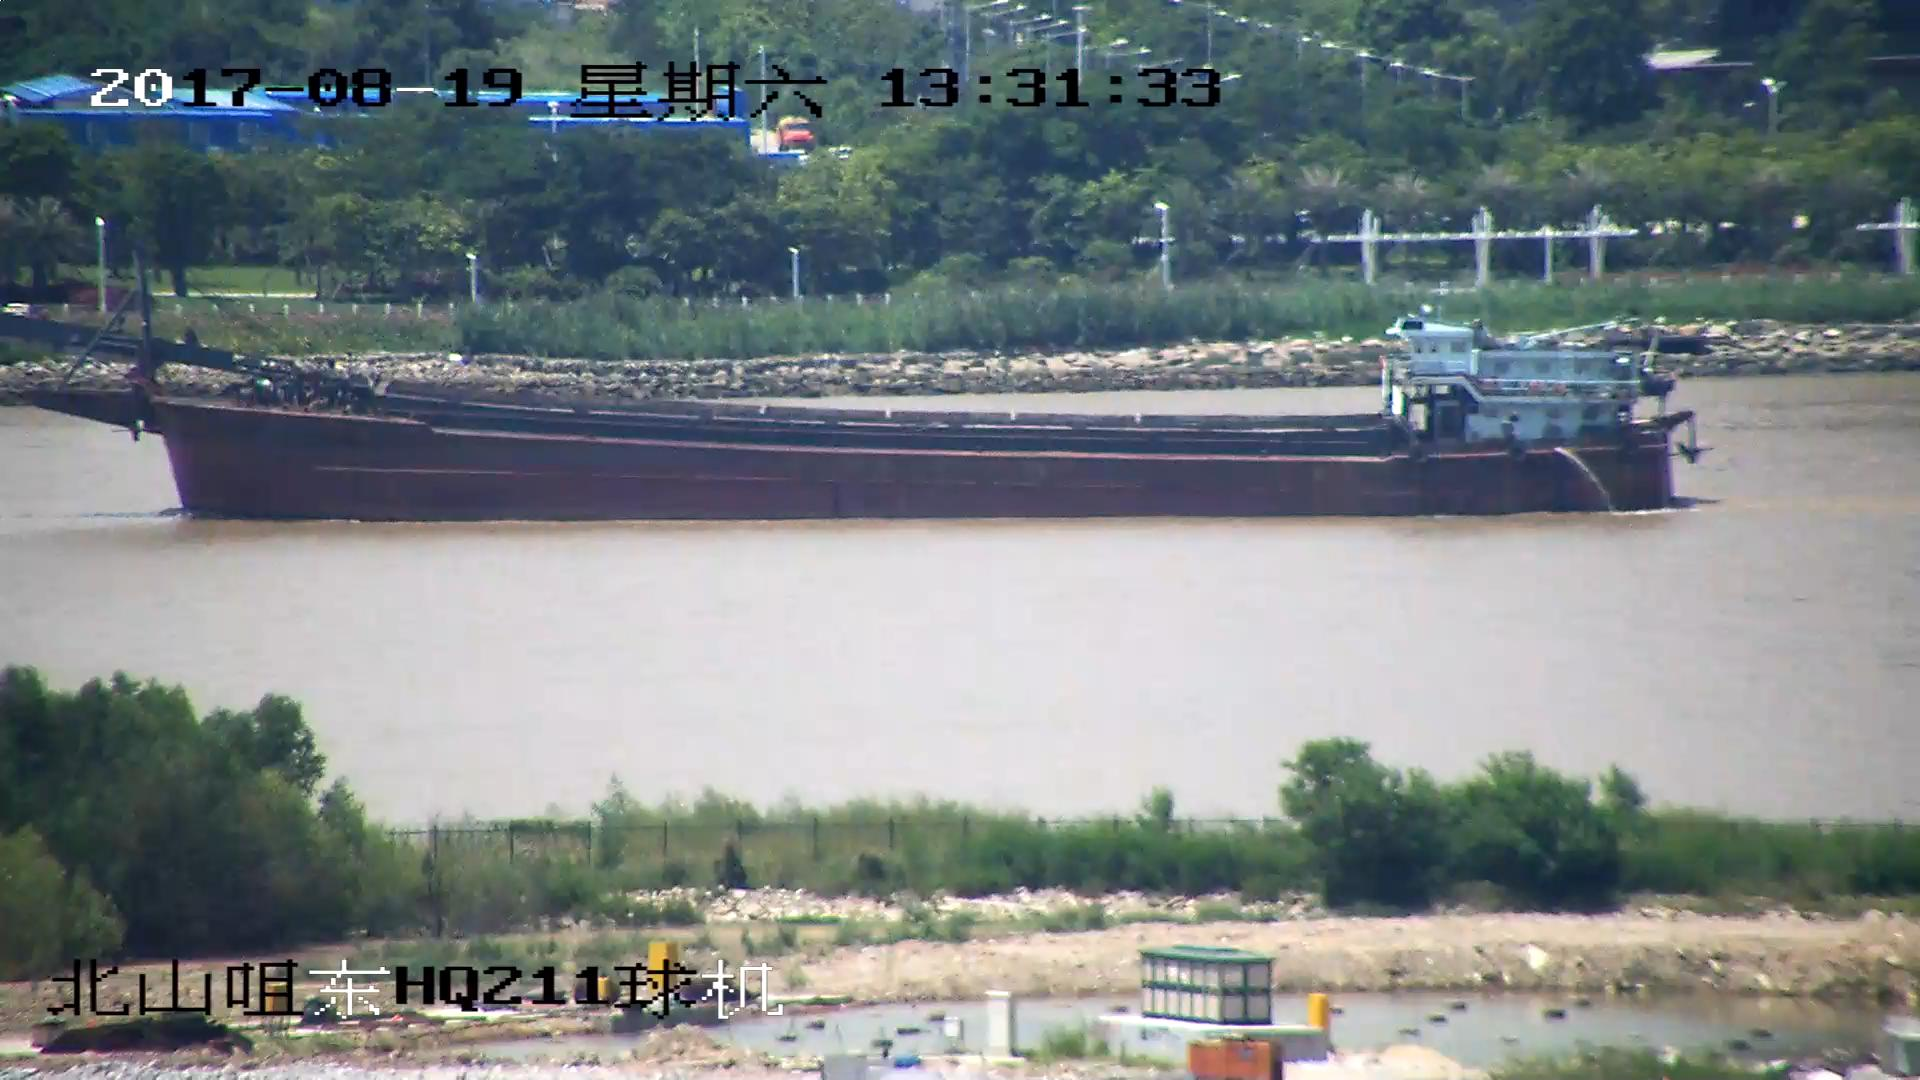bulk cargo carrier: (1, 297, 1696, 523)
